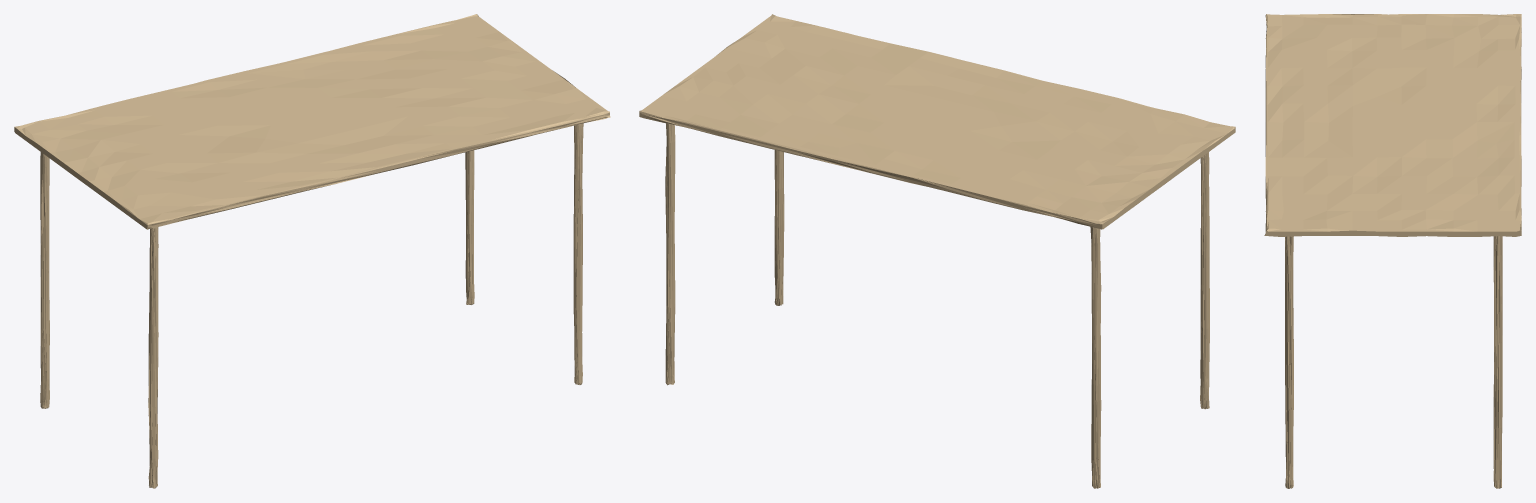
The model's file is gen-desk-1.glb.
3 renders of one model, left to right at view 1: azimuth 30°, elevation 25°; view 2: azimuth 150°, elevation 25°; view 3: azimuth 270°, elevation 25°, orthographic. The views are drawn at different scales.
Visible parts, largest first — view 1: gen-desk-1_part1; view 2: gen-desk-1_part1; view 3: gen-desk-1_part1.
Boxes of the visible parts, x1,y1,x2,y2 form: gen-desk-1_part1: (14,14,610,488); gen-desk-1_part1: (639,14,1235,488); gen-desk-1_part1: (1264,14,1521,488).
Bounding box in the file's own units: 1306 × 750 × 656.
